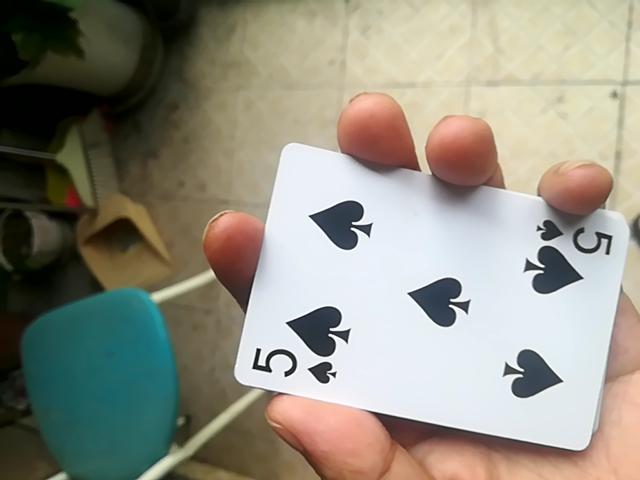ht 5: (229, 142, 629, 451)
